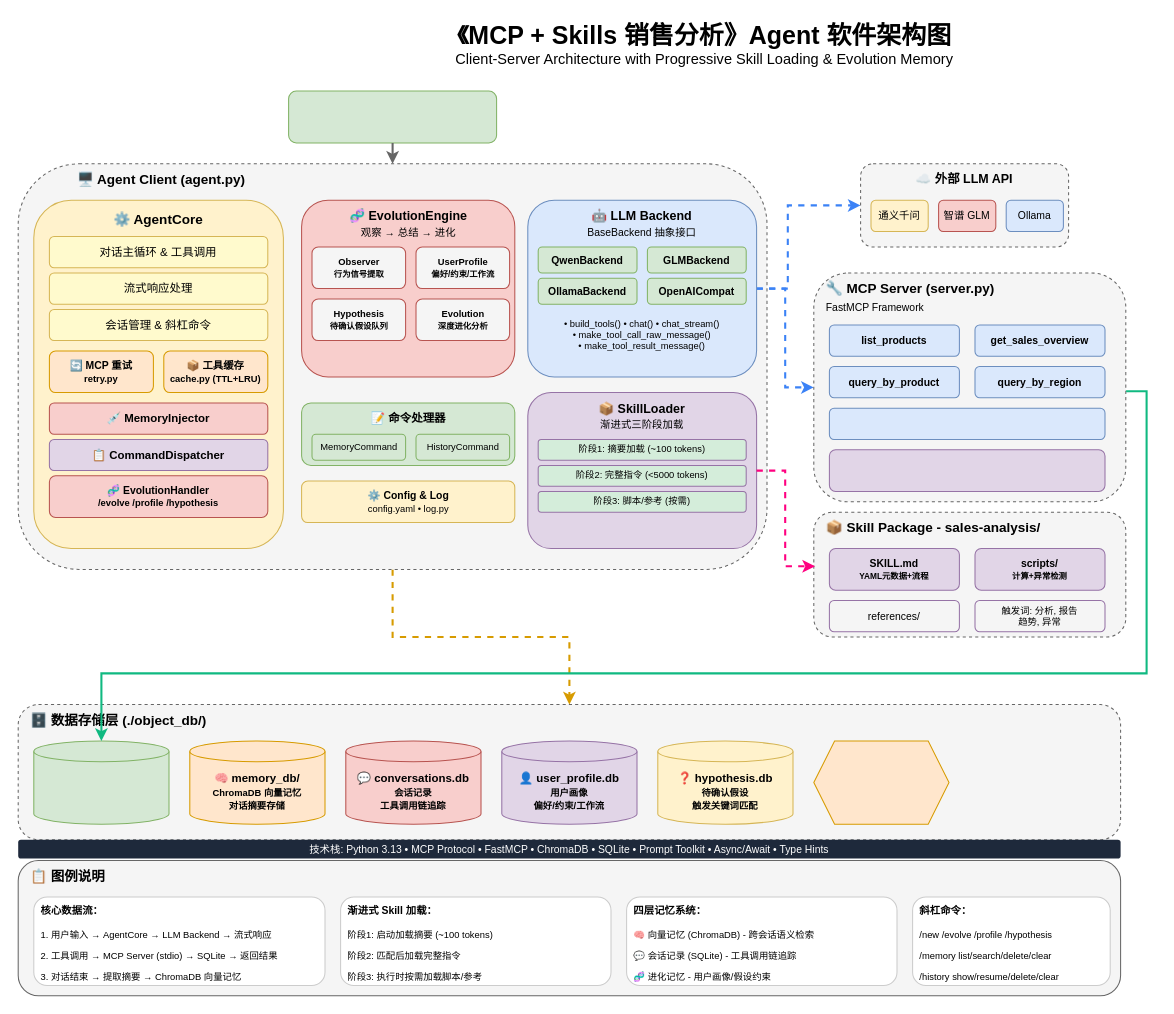
Some shapes in this 1174 by 1014 pixel diagram are drawn without their labels. The box of each missing label's shape, as (x1, y1, x2, y2) in pixels:
get_raw_sales_data (JSON): (828, 407, 1105, 439)
⚡ Cache 工具调用缓存 TTL: 300s, LRU: 1000: (813, 740, 949, 824)
👤 用户终端 自然语言输入 / 斜杠命令: (288, 90, 497, 143)
📊 sales.db 销售业务数据 52 条 Q2 测试数据: (33, 740, 169, 824)
🗄️ 数据库访问层 SQLite 连接池 • 安全 SQL • LIKE 转义: (828, 449, 1105, 491)
